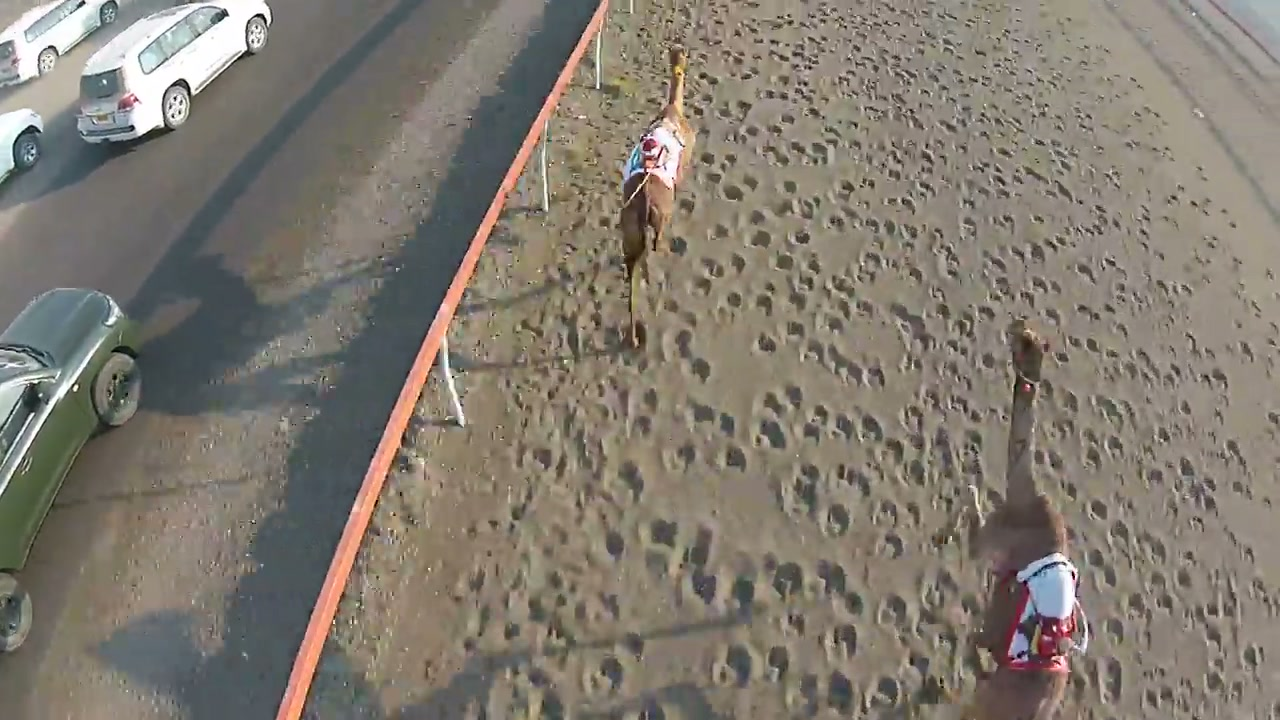animal_footprint: (326, 0, 1279, 719)
